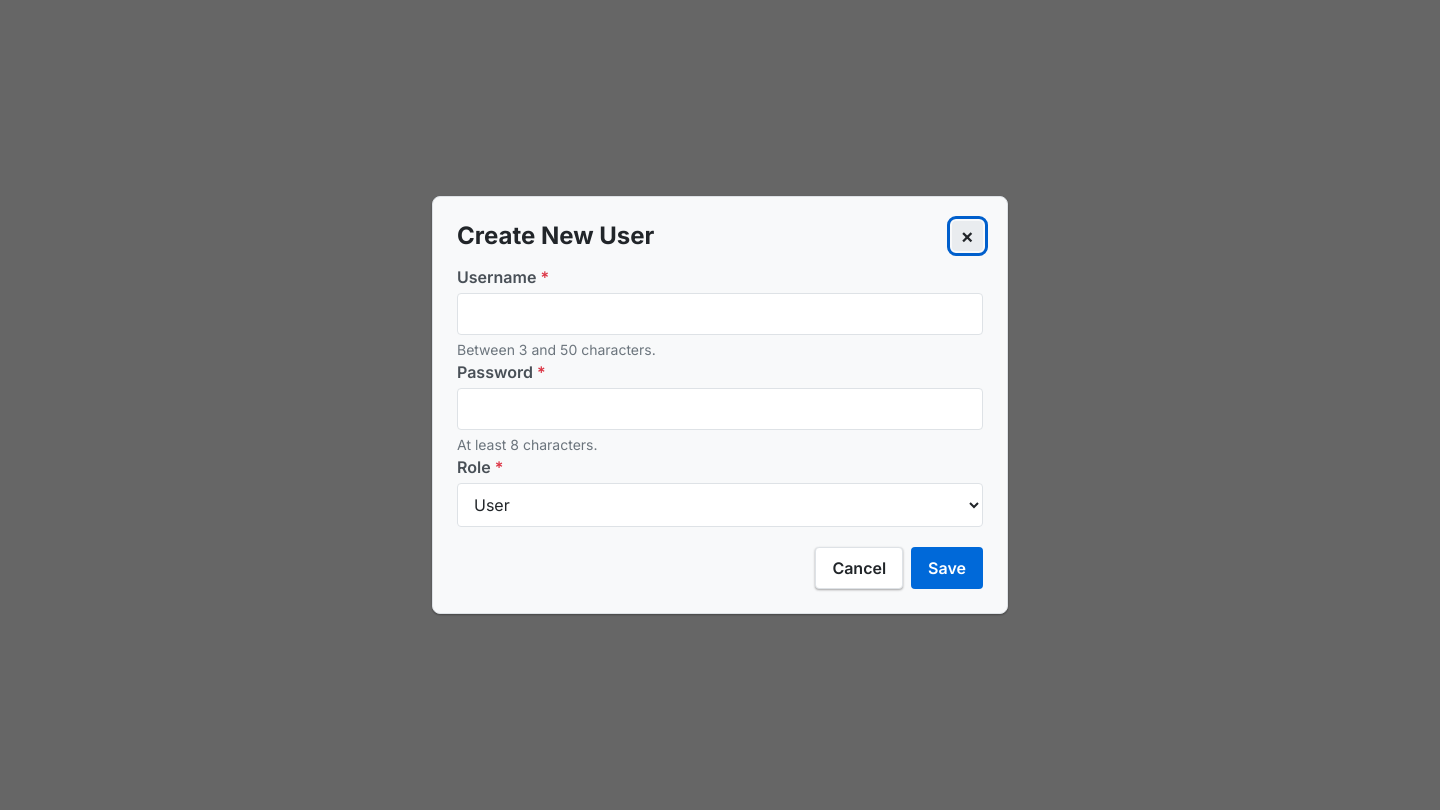
Test: AddUserModal › blocks a short username client-side with an inline message
Type "ab" into the field labelled "Username" at (720, 314), box x1=457 y1=293 x2=983 y2=335
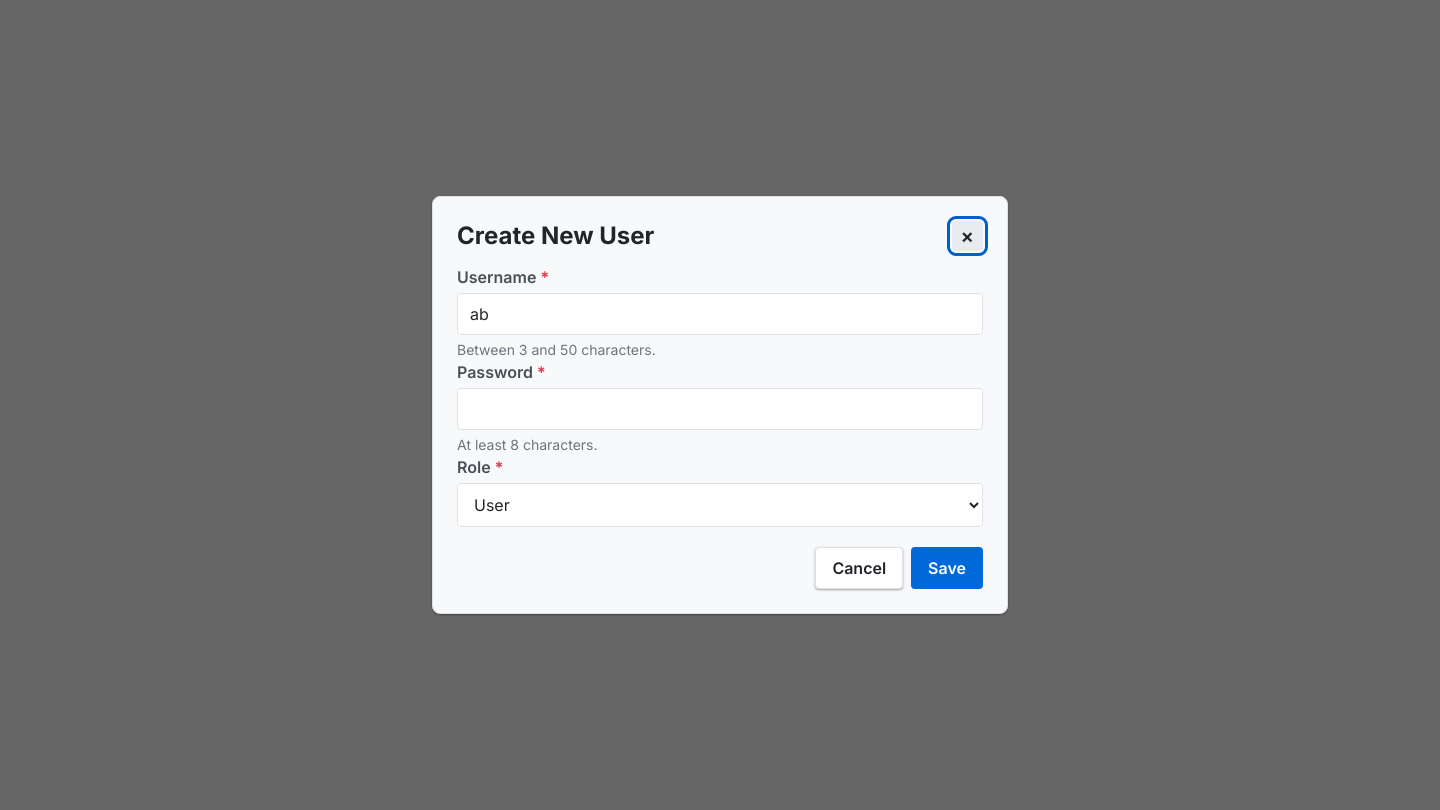
Type "password123" into the password field labelled "Password" at (720, 409), box x1=457 y1=388 x2=983 y2=430
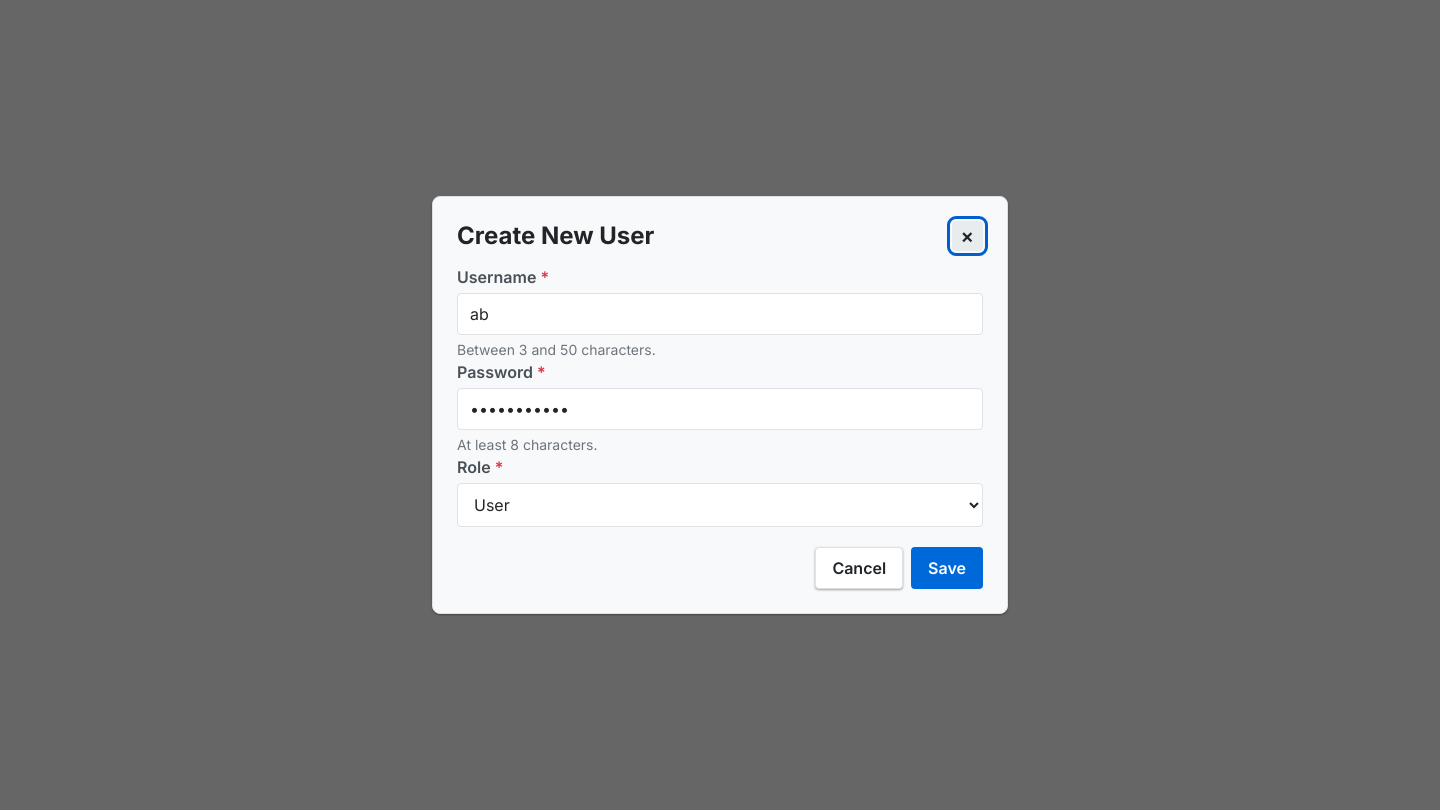
Click the button "Save" at (947, 568), box x1=911 y1=547 x2=983 y2=589
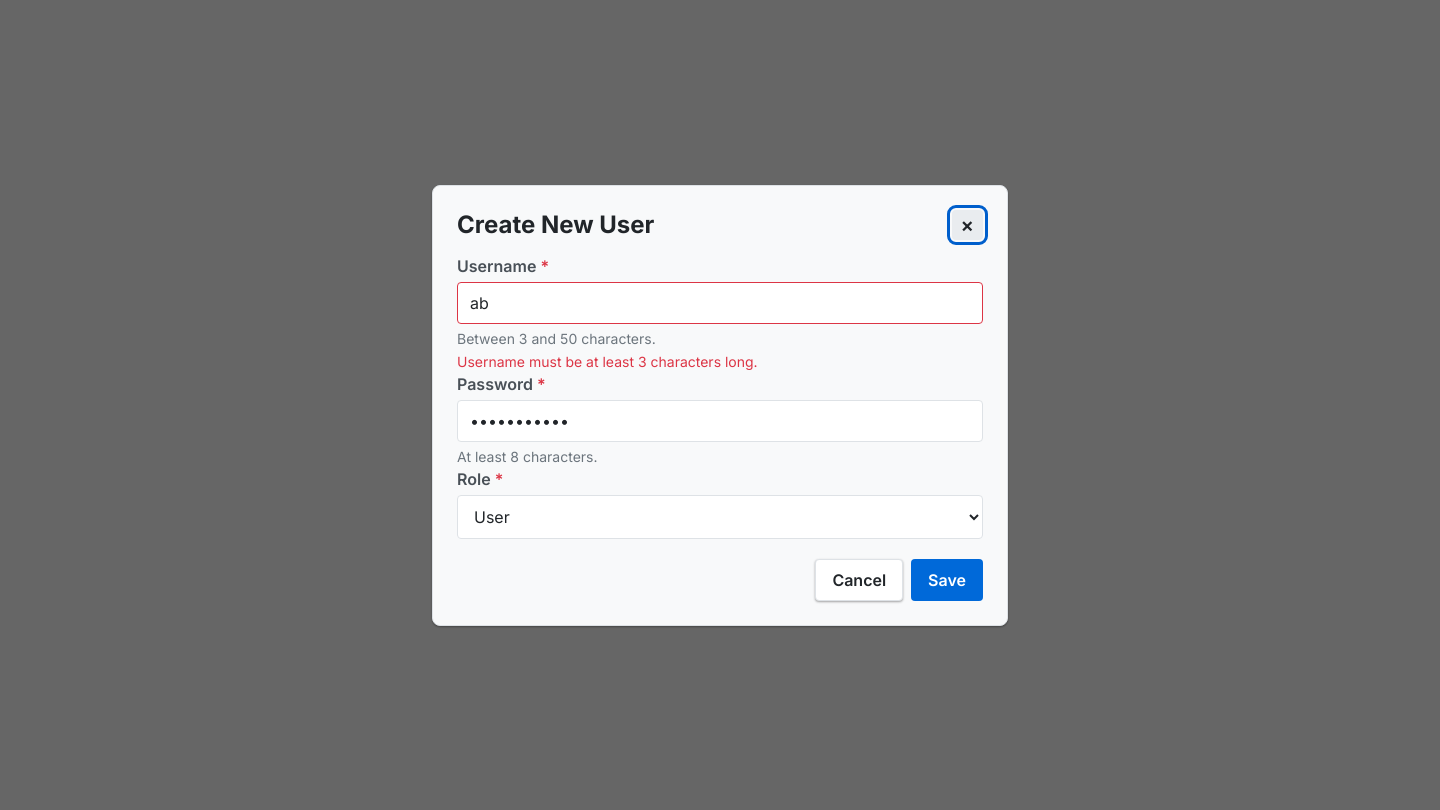
Expected: the text "Username must be at least 3 characters long." is shown, x1=457 y1=352 x2=758 y2=370
